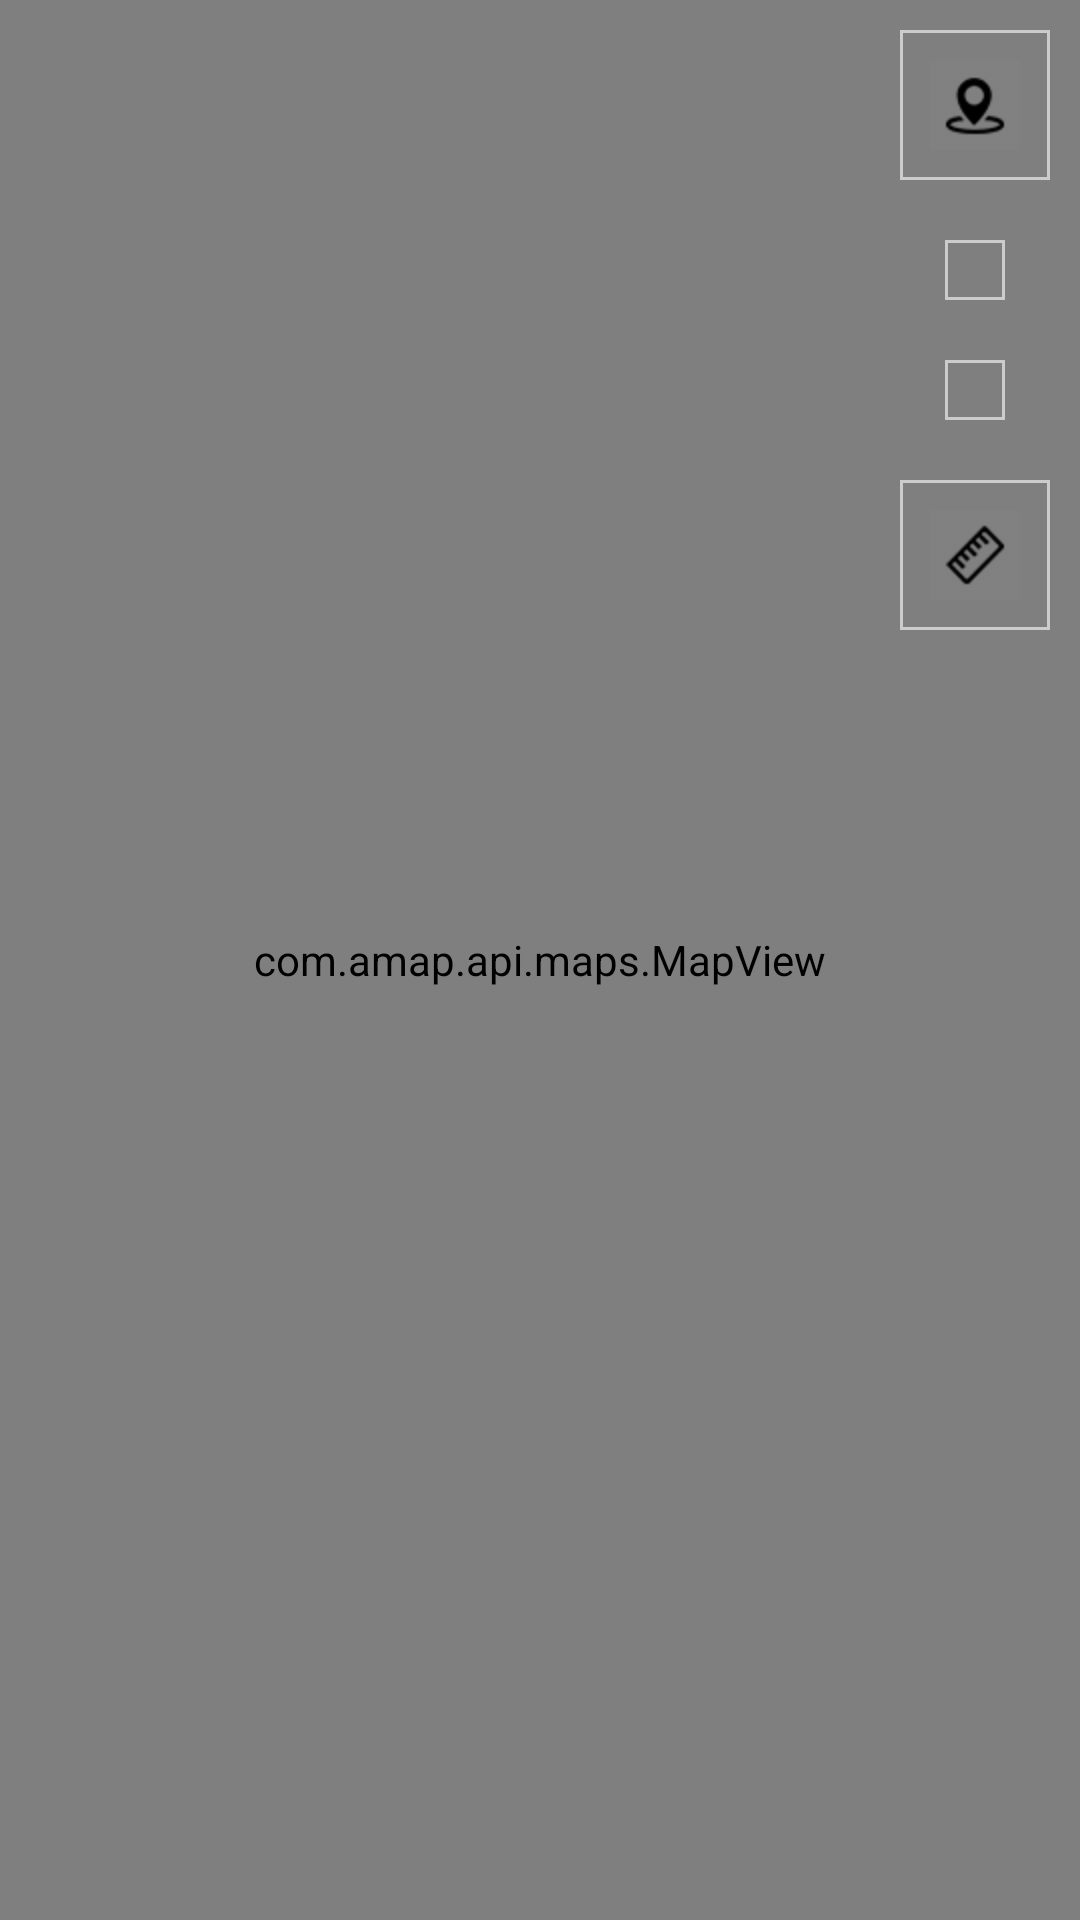

Locate icon controls on the screen. Image size 1080px×1920px, boxes as (x1, y1, x2, y2).
map line: (946, 525, 1005, 585)
map location: (945, 77, 1005, 135)
